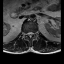CCS_normal: (29, 29, 31, 40)
LFS_normal: (33, 29, 35, 36)
LLS_normal: (31, 30, 33, 37)
RFS_normal: (24, 30, 27, 37)
RLS_normal: (27, 30, 29, 37)
